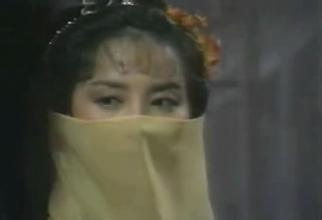OK: (71, 58, 195, 182)
